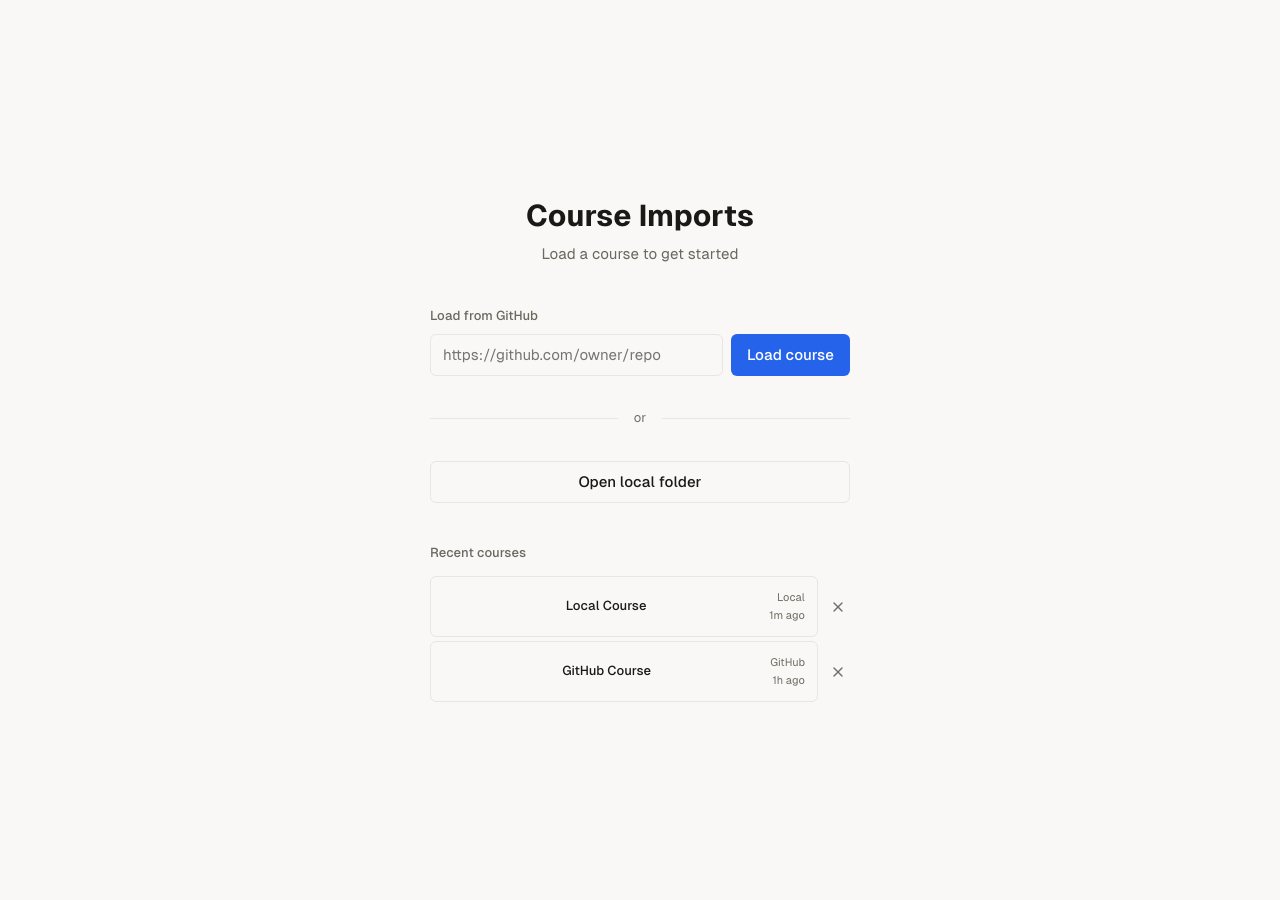
Test: Home › Recent courses › shows confirmation prompt with progress options when course has progress
Expected: the text "Local Course" is shown, [566,598,646,613]
What coordinates should you click on to do the following:
click the button named "Remove Local Course"
I would click on:
 (838, 607)
Its box is [826,595,850,619].
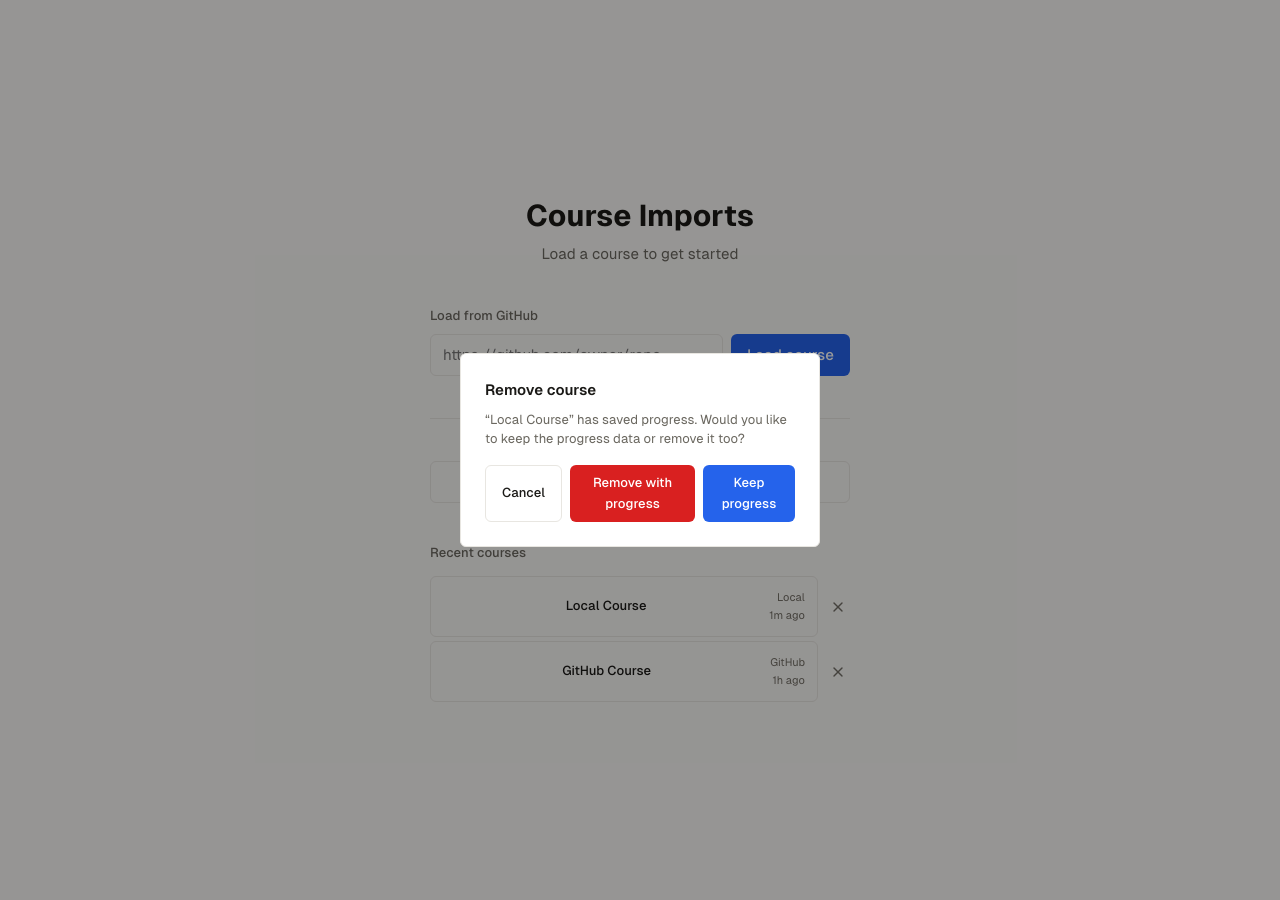
Expected: the text "has saved progress" is shown, [485,412,787,446]
Expected: the button "Remove with progress" is shown, [570,465,695,522]
Expected: the button "Keep progress" is shown, [703,465,795,522]
